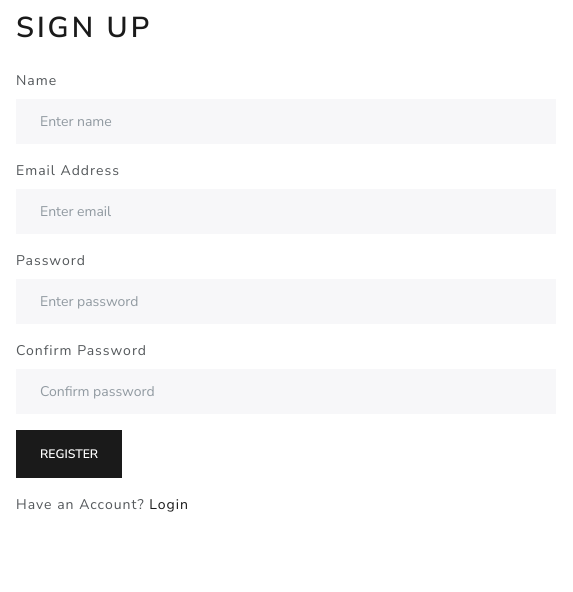
Scenario: PTC-26 : Validation du formulaire d'inscription › 3. Affiche une erreur quand les mots de passe ne correspondent pas
Type "Test User" into the field with placeholder "Enter name" at (286, 121), box [16, 98, 556, 144]
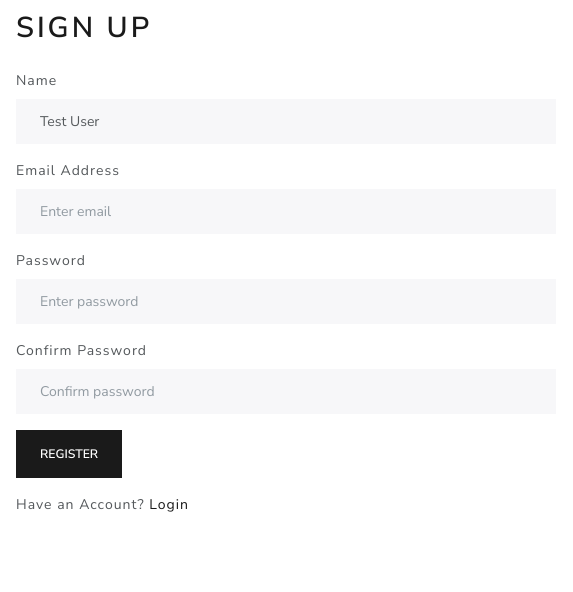
Type "test@example.com" into the field with placeholder "Enter email" at (286, 211), box [16, 188, 556, 234]
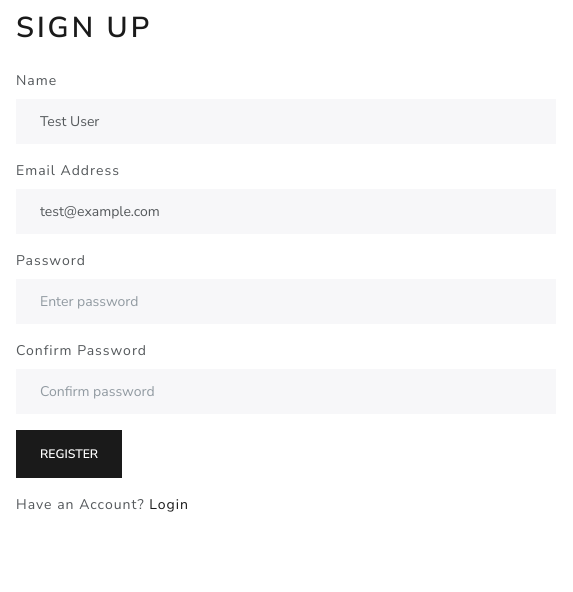
Type "password123" into the password field with placeholder "Enter password" at (286, 301), box [16, 278, 556, 324]
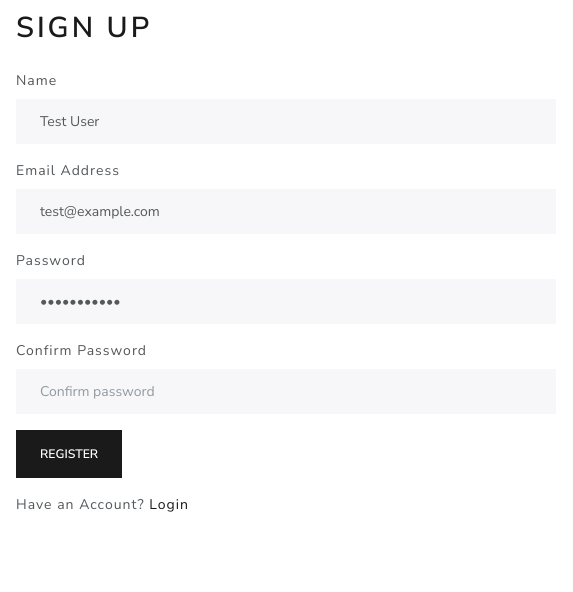
Type "different456" into the password field with placeholder "Confirm Password" at (286, 391), box [16, 368, 556, 414]
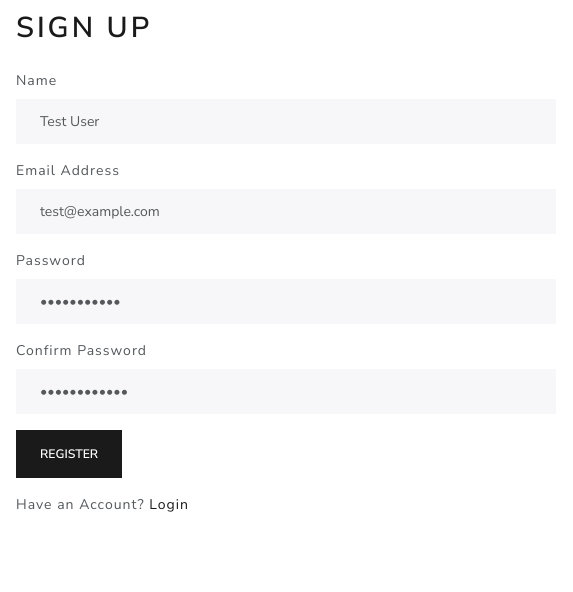
Click the button "Register" at (69, 454), box [16, 430, 122, 478]
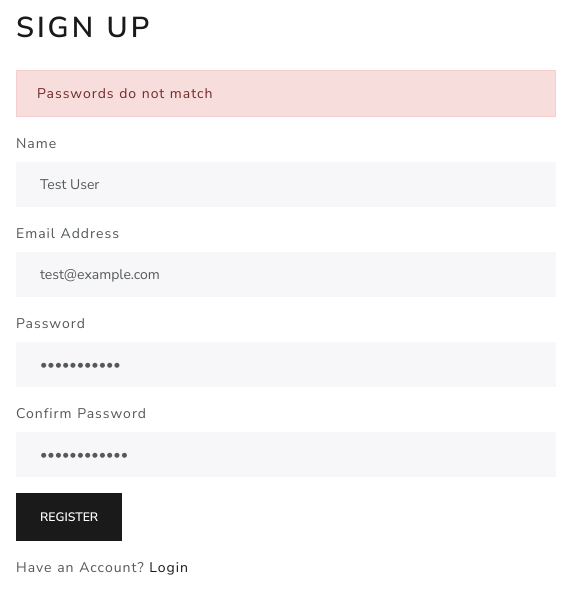
Check: the text "Passwords do not match" is shown, box [16, 70, 556, 116]
